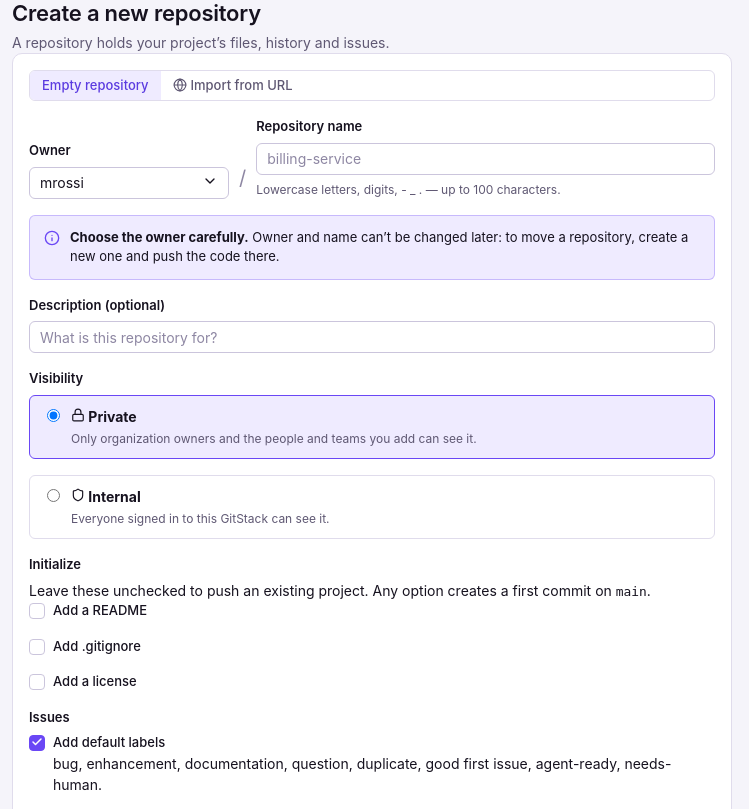
it: NewRepoPage › Internal e opzioni attive finiscono nel corpo, con il primo modello
Expected: the dropdown named "Owner" reads "mrossi", [29,166,229,198]
Type "demo" into the field labelled "Repository name" at (486, 158), box [256,142,715,174]
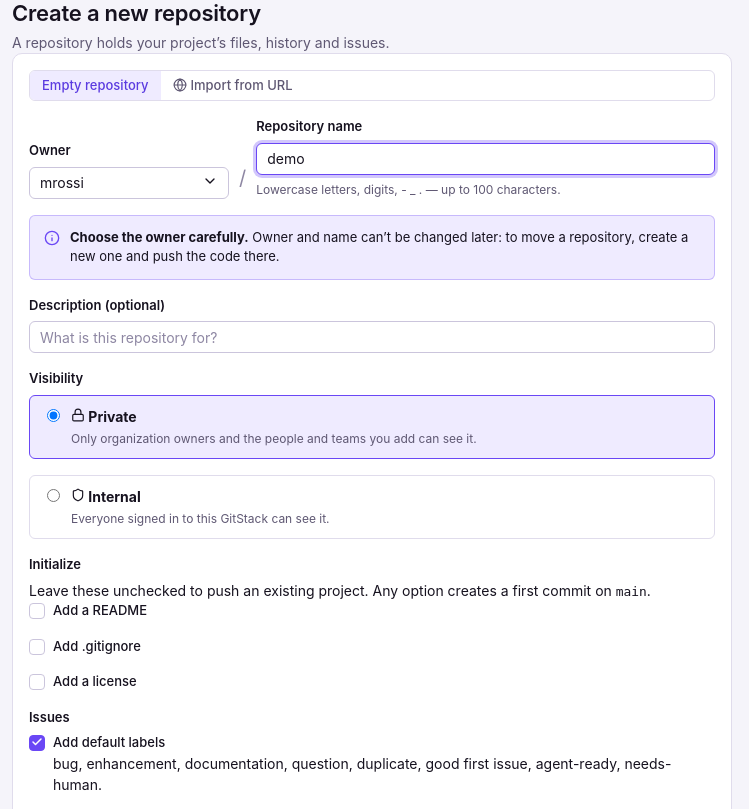
Click the radio button labelled "Internal" at (54, 495), box [47,488,60,502]
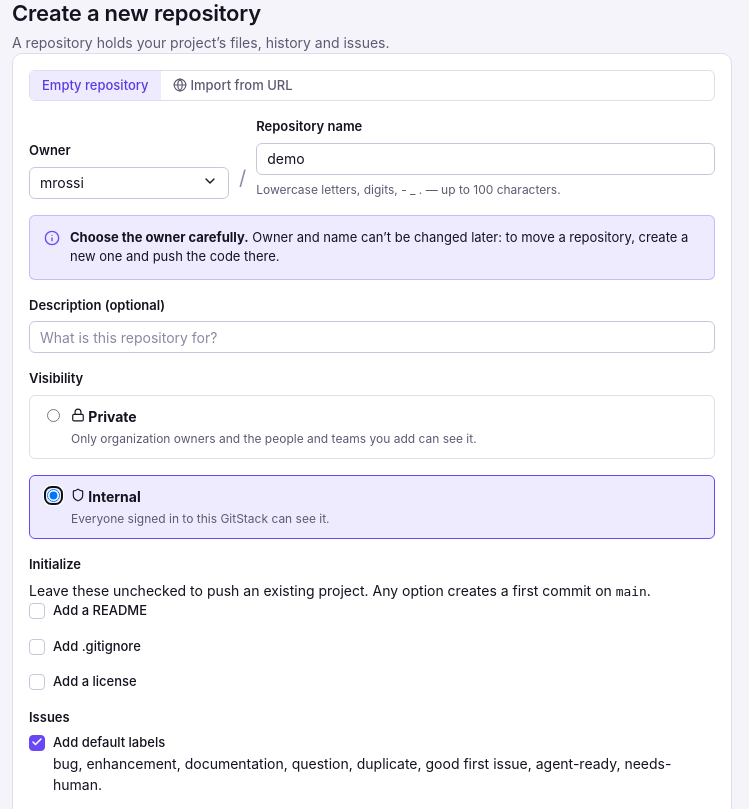
Click the checkbox named "Add a README" next to "Add a README" at (37, 611), box [29,603,45,619]
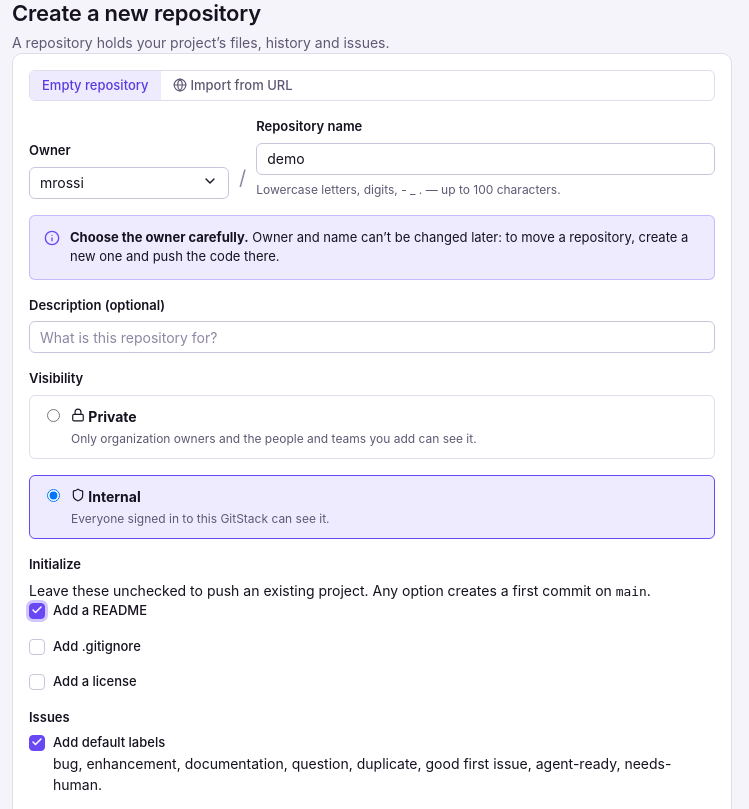
Click the checkbox named "Add .gitignore" next to "Add .gitignore" at (37, 647), box [29,639,45,655]
(page scrolled)
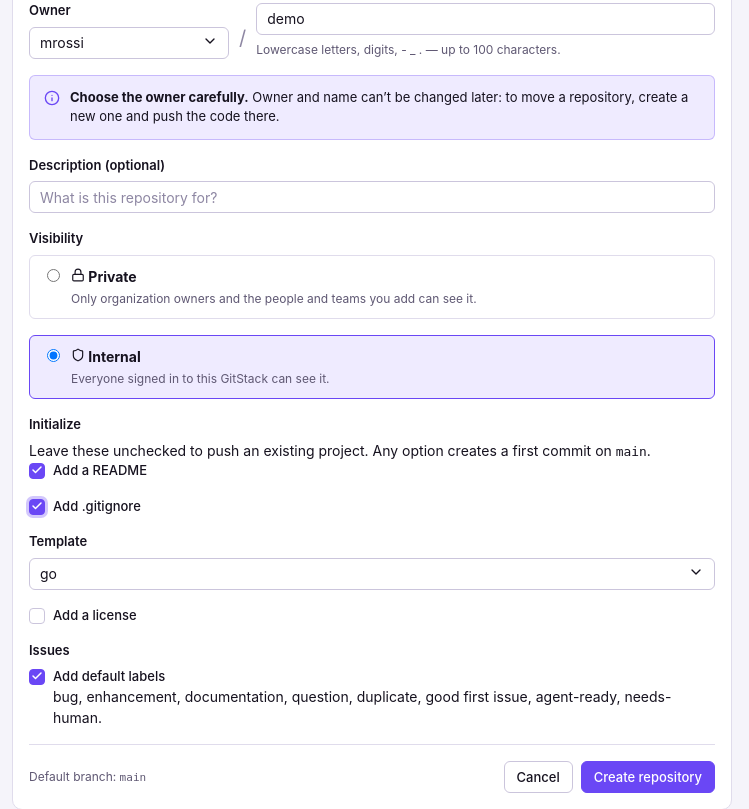
Click the button "Create repository" at (648, 777), box [581,761,715,793]
(page scrolled)
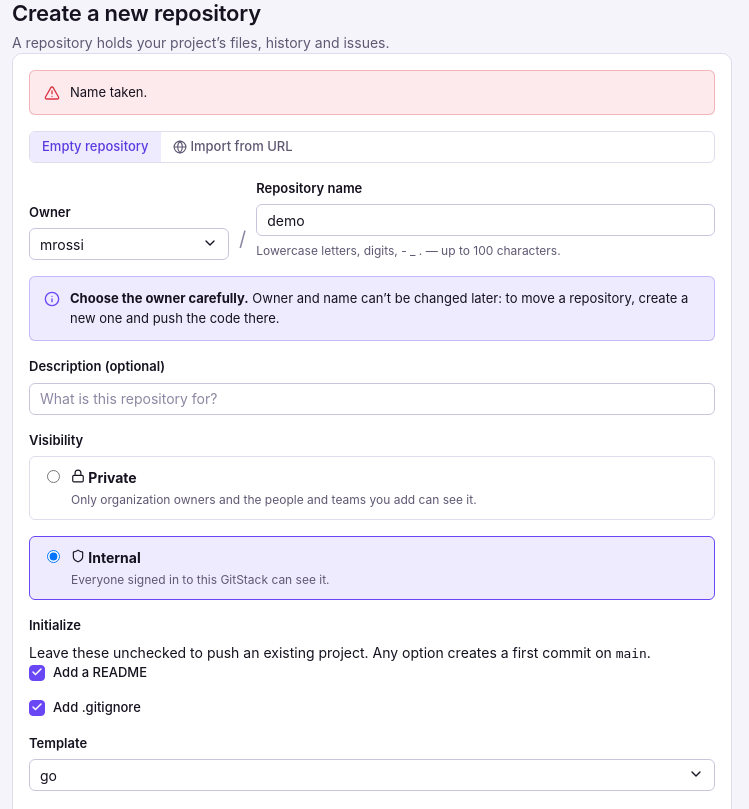
Expected: the text "Name taken." is shown, [70,82,147,102]
